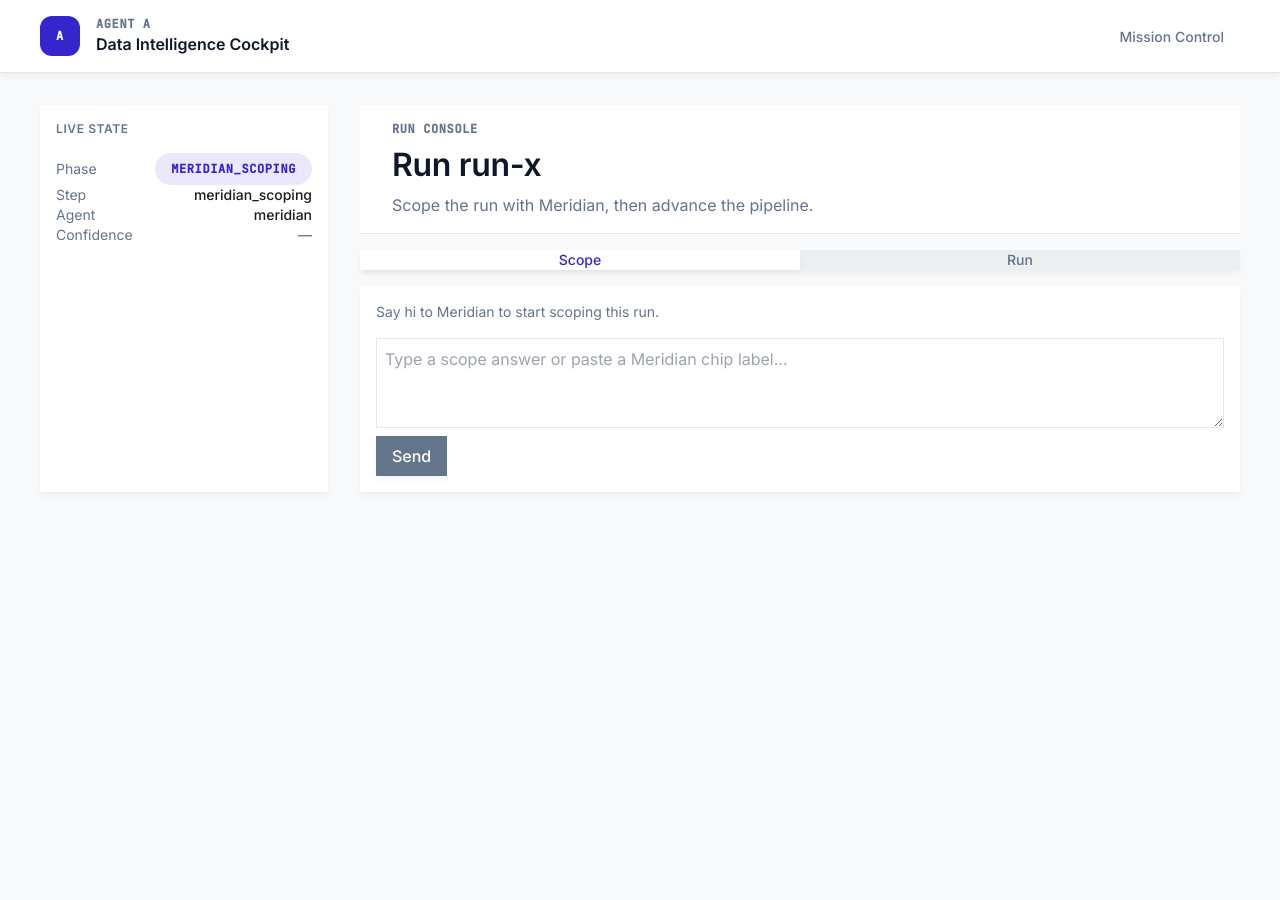
Test: RunConsole › sends a chat message and renders the assistant reply + user bubble
Type "include the promo calendar" into the text box with test id "chat-input".
click(800, 383); type("include the promo calendar")  # box [376,338,1224,428]
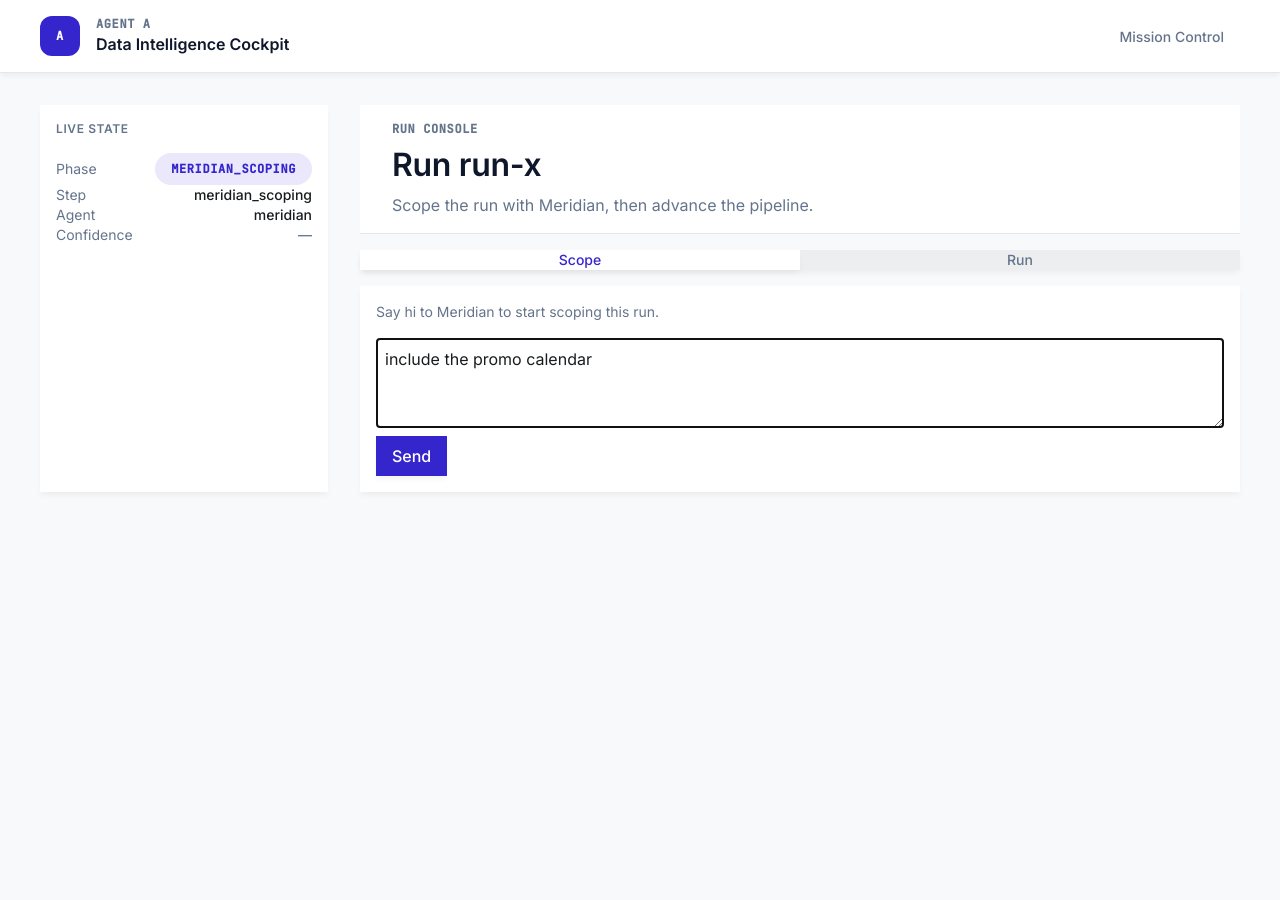
Click the button with test id "chat-send".
click(412, 456)  # box [376,436,447,476]
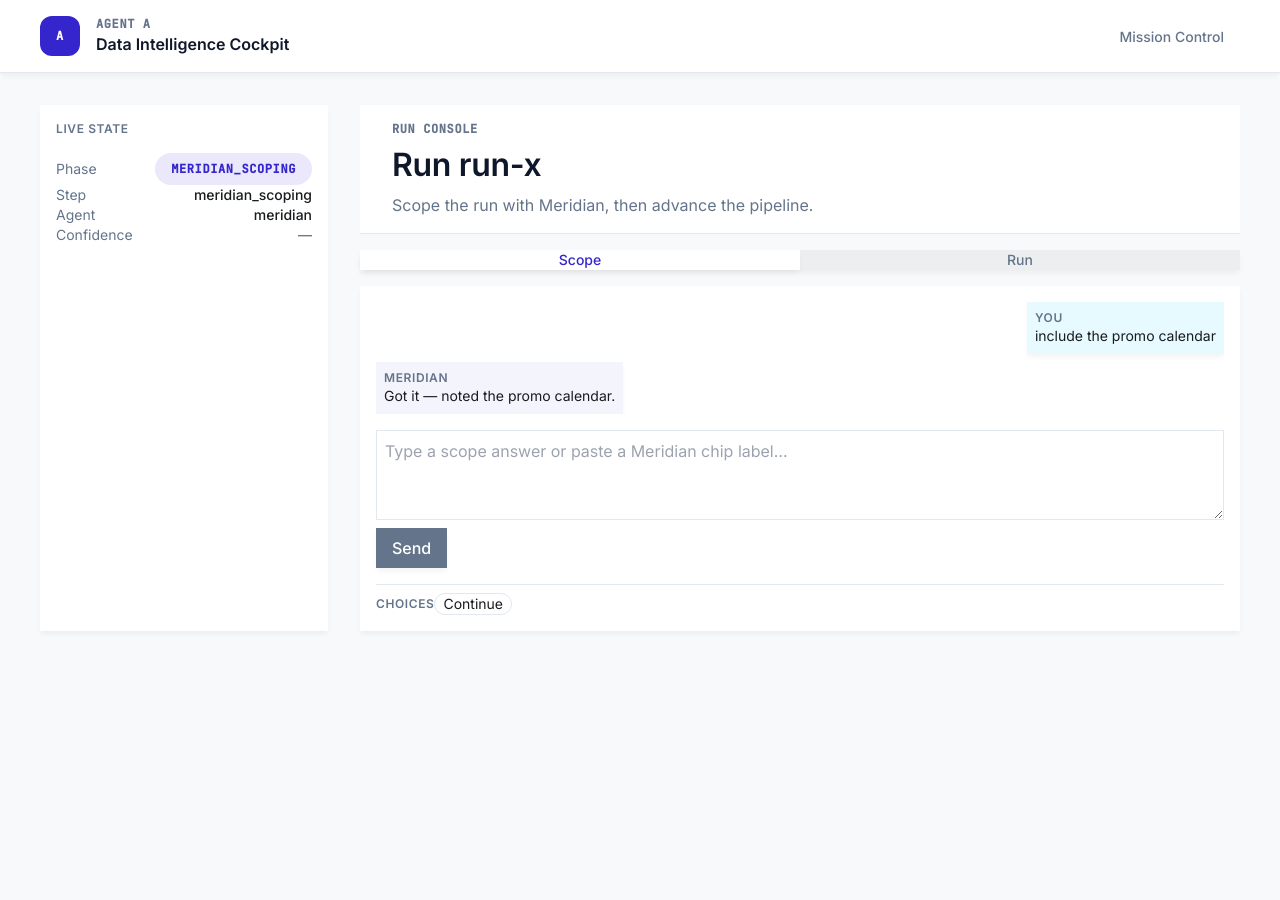
Expected: the element with test id "chat-bubble-user" shows "include the promo calendar", [1035,327,1216,344]
Expected: the text "Got it — noted the promo calendar." is shown, [384,386,615,406]
Expected: the button with test id "possibility-chip" reads "Continue", [434,593,512,615]
